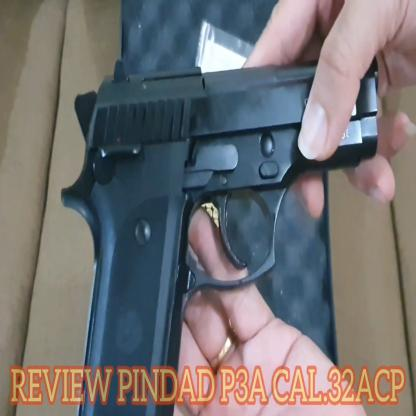handgun: (69, 35, 388, 409)
